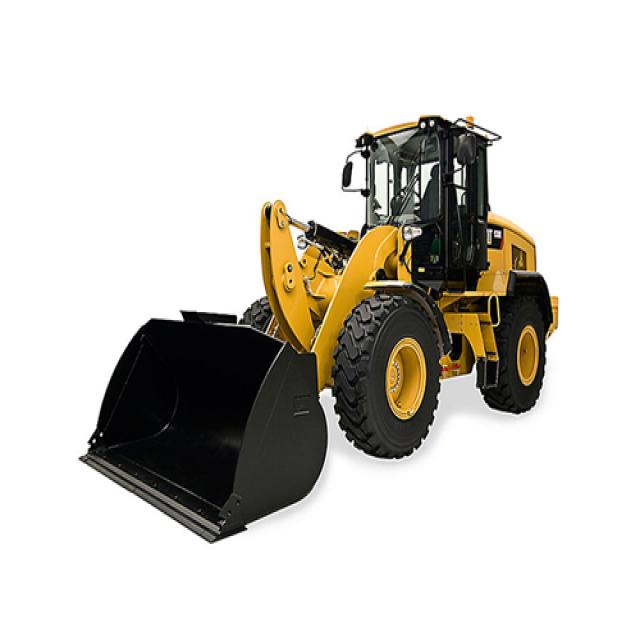buldozerpayloadergrader: (94, 112, 558, 540)
